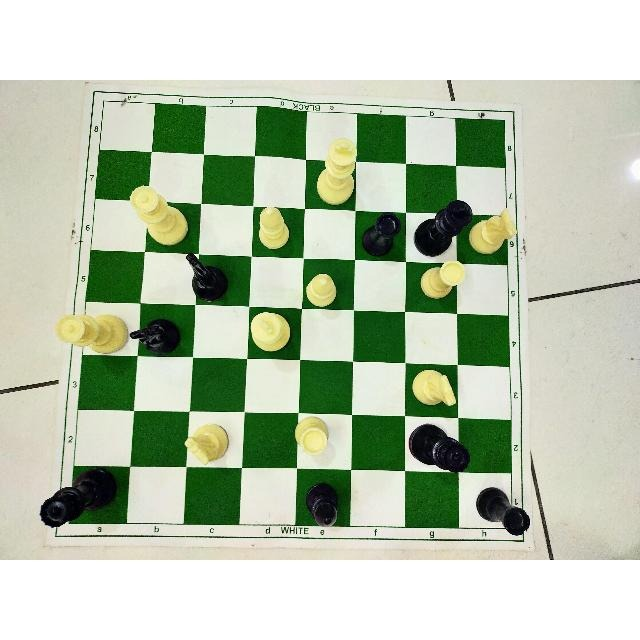black-bishop: (304, 480, 341, 530)
black-king: (411, 198, 474, 259)
black-knight: (183, 251, 230, 303), (128, 317, 181, 356)
black-queen: (37, 465, 119, 531), (406, 421, 473, 476)
black-rook: (473, 486, 533, 538), (360, 211, 403, 259)
white-bishop: (256, 204, 292, 252), (303, 270, 339, 309)
white-king: (315, 136, 359, 208), (247, 309, 292, 355)
white-knight: (467, 205, 519, 256), (409, 366, 460, 410), (183, 421, 231, 466)
white-queen: (127, 183, 191, 249), (54, 309, 132, 357)
white-rook: (417, 258, 469, 302), (291, 412, 333, 459)
